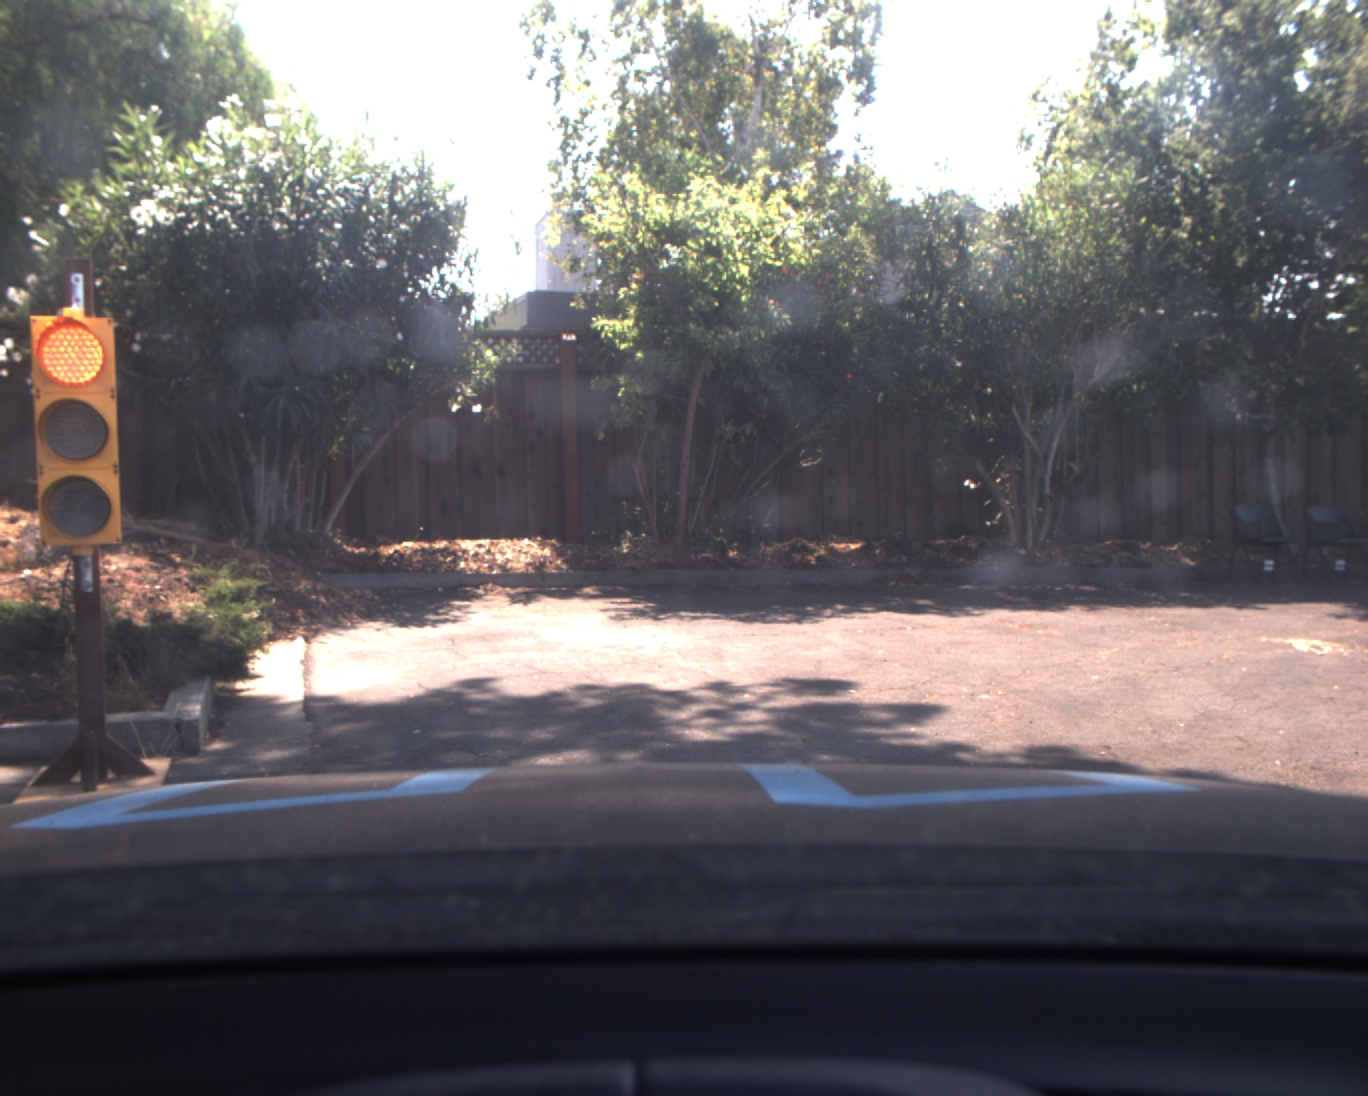red: (28, 314, 128, 549)
